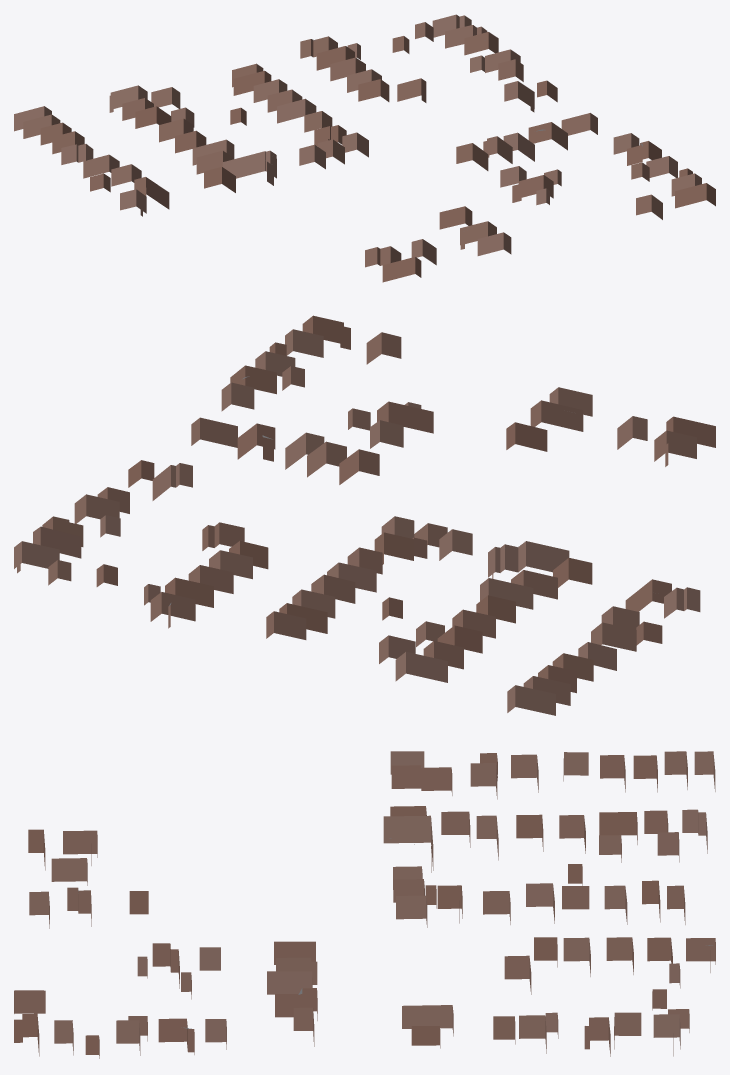
The model's file is c_1636_17821_buildings_residential.glb.
3 renders of one model, top to bottom at view 1: azimuth 30°, elevation 25°; view 2: azimuth 150°, elevation 25°; view 3: azimuth 270°, elevation 25°, orthographic. The views are drawn at different scales.
Visible parts, largest first — view 1: geometry_0; view 2: geometry_0; view 3: geometry_0.
Part boxes in pixels (box(x1,y1,x2,y2)): geometry_0: box(14, 14, 715, 282); geometry_0: box(14, 315, 715, 715); geometry_0: box(14, 751, 715, 1058).
Bounding box in the file's own units: 260 × 13.42 × 260.
